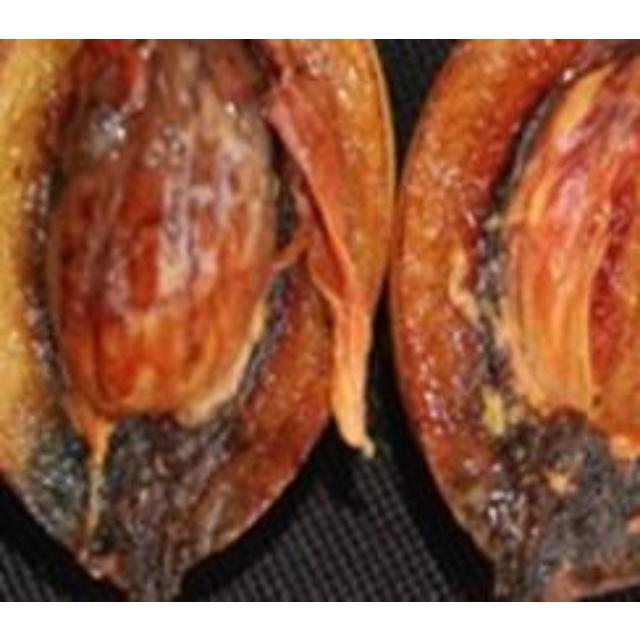damaged: (0, 38, 393, 599), (391, 38, 637, 599)
